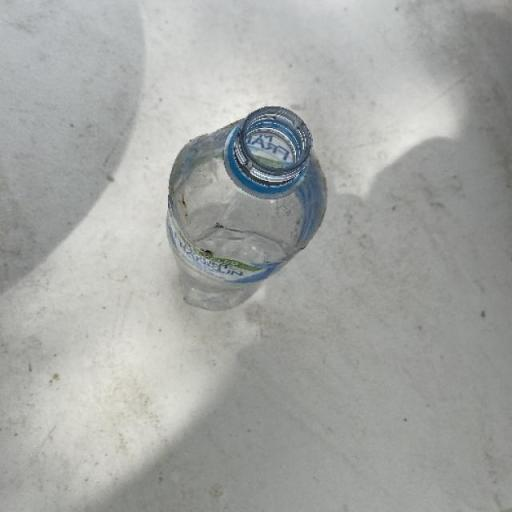plastic: (164, 104, 327, 310)
